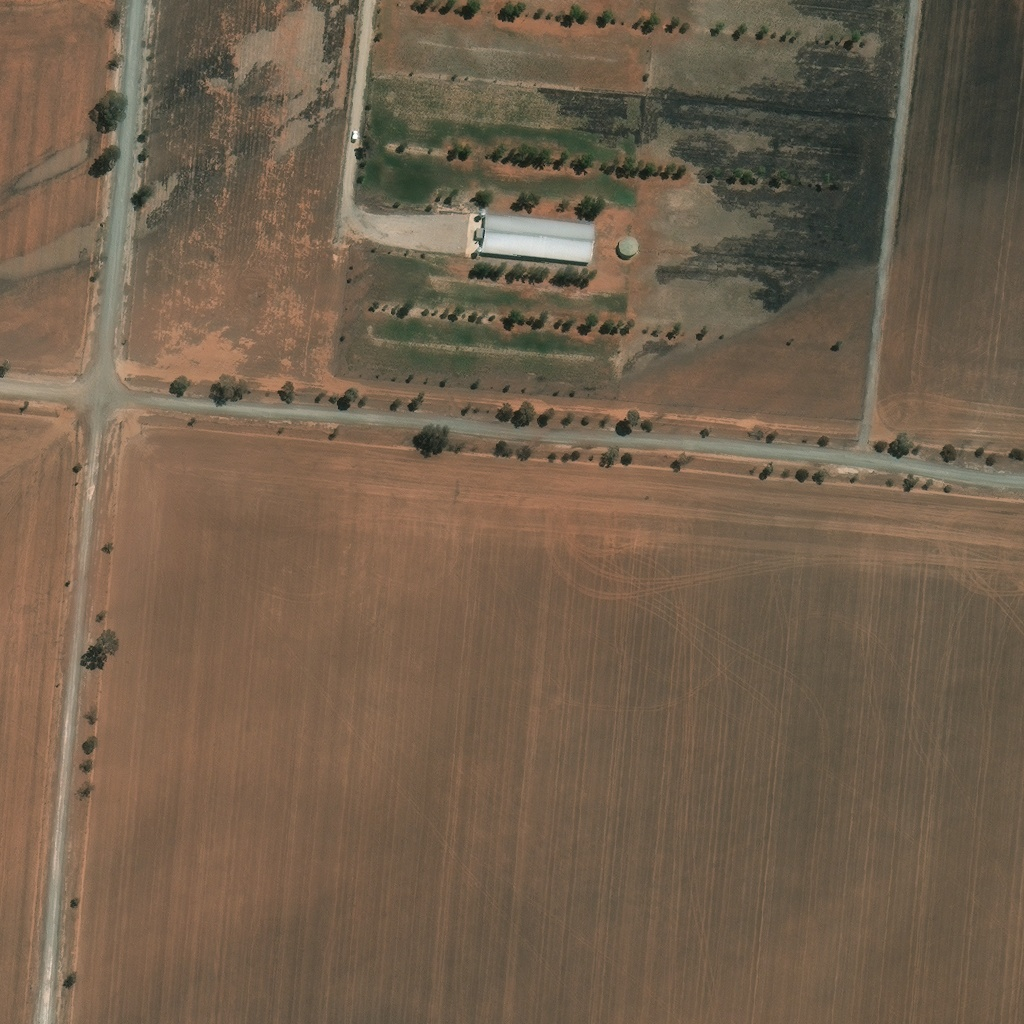0 no-damage: (476, 215, 594, 262), (618, 234, 639, 255)
4 un-classified: (469, 229, 476, 236), (468, 236, 475, 242)
